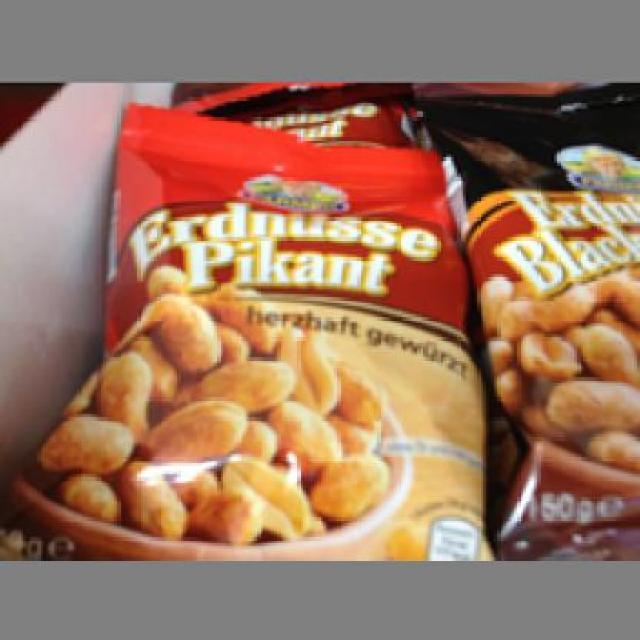Nuts: (0, 100, 483, 554), (414, 89, 637, 552)
